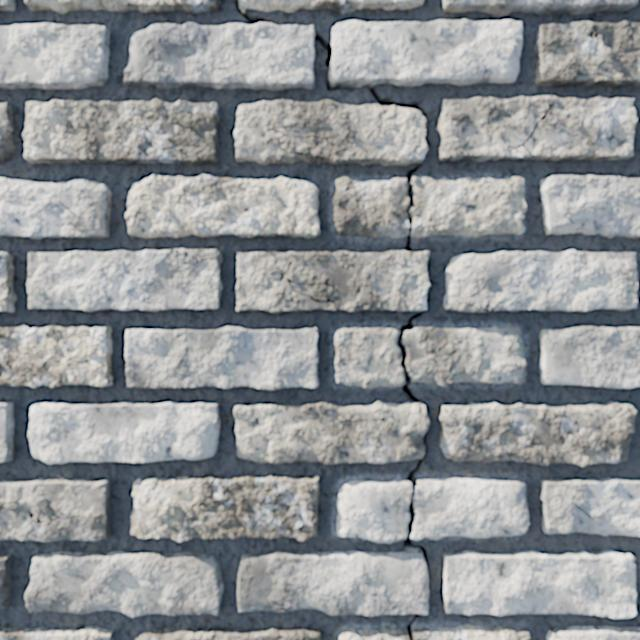broken_brick: (333, 176, 526, 238), (403, 326, 526, 386), (411, 478, 528, 540), (337, 479, 412, 543), (334, 327, 404, 388), (413, 624, 529, 639), (339, 628, 407, 639)
crack: (234, 209, 431, 639), (124, 0, 522, 207), (438, 96, 637, 162), (23, 99, 219, 166), (443, 550, 636, 618), (25, 551, 223, 617), (439, 401, 636, 466), (130, 475, 319, 541), (125, 175, 320, 238), (125, 326, 319, 389), (26, 249, 222, 311), (443, 250, 638, 312), (28, 402, 220, 464), (0, 23, 109, 89), (534, 21, 639, 88), (0, 478, 111, 541), (0, 325, 112, 387), (0, 178, 111, 238), (539, 175, 639, 239), (539, 326, 639, 388), (541, 478, 639, 536), (442, 0, 637, 15), (25, 0, 220, 14), (136, 627, 321, 639), (0, 626, 112, 639), (547, 626, 639, 639), (0, 252, 16, 312), (0, 402, 14, 462), (0, 102, 14, 161), (0, 554, 12, 609), (0, 0, 15, 10)
